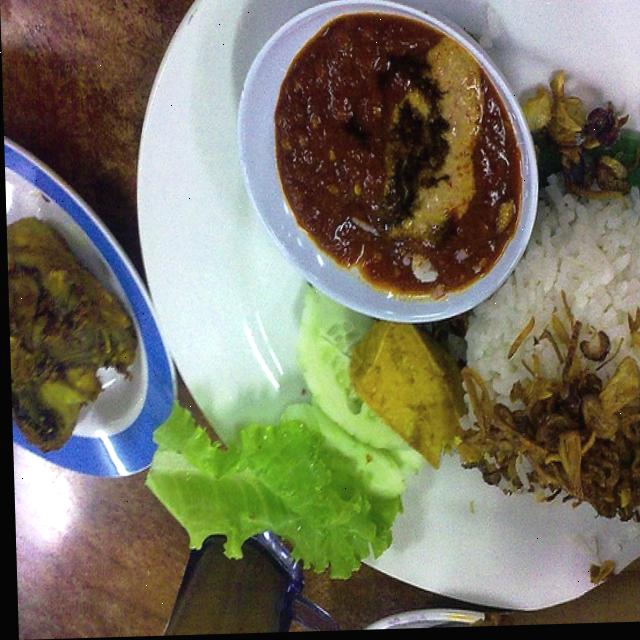米饭主食: (15, 8, 640, 637)
